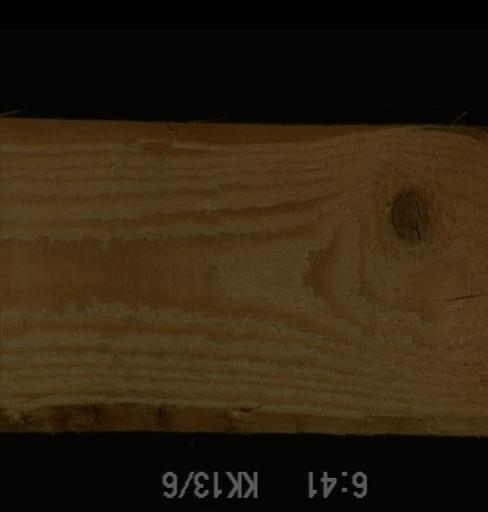dry_knot: (388, 189, 436, 246)
split: (400, 281, 486, 307)
wave: (0, 400, 436, 431), (136, 110, 478, 139)
